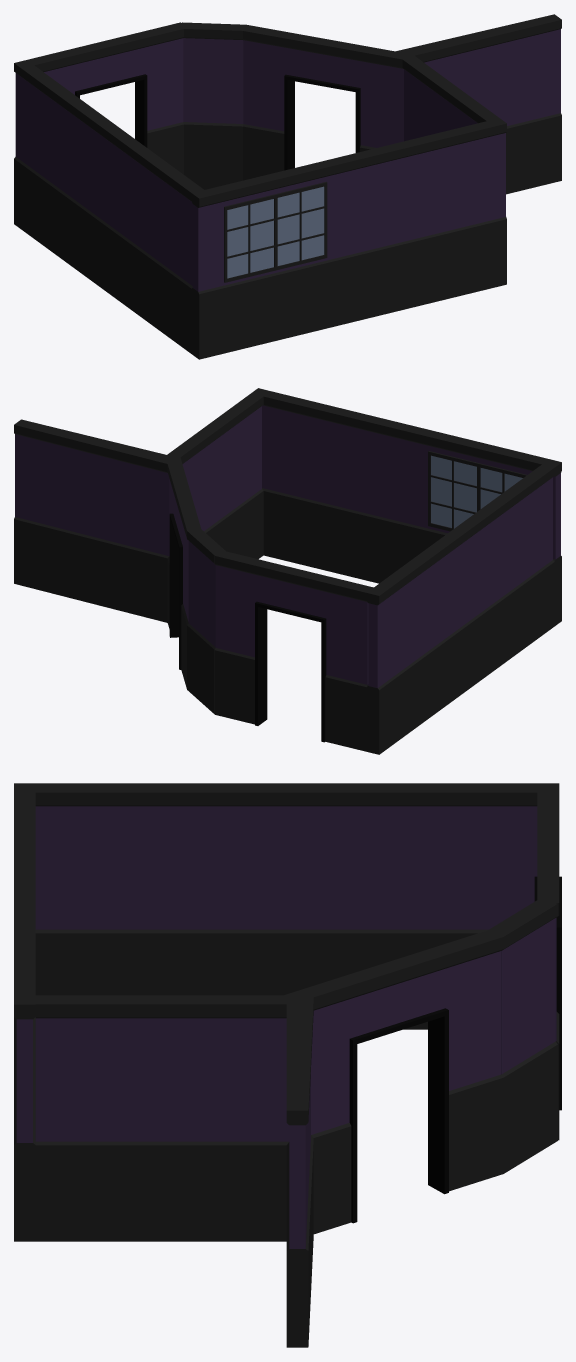
File: Garden.fbx
The picture shows the model from 3 angles, top to bottom: view 1: azimuth 30°, elevation 25°; view 2: azimuth 150°, elevation 25°; view 3: azimuth 270°, elevation 25°; orthographic projection. The views are drawn at different scales.
Visible parts, largest first — view 1: Classic_WallWindow_03_snaps001 (6), Classic_Wall_snaps001 (83), Classic_Wall_Corner_snaps001 (6), Classic_Wall_snaps001 (85), Classic_Wall_snaps001 (84), Classic_WallDoorFrame_02_snaps001 (16), Classic_WallDoorFrame_02_snaps001 (15), Classic_Wall_snaps001 (86); view 2: Classic_Wall_Corner_snaps001 (6), Classic_Wall_snaps001 (83), Classic_WallDoorFrame_02_snaps001 (15), Classic_Wall_snaps001 (85), Classic_Wall_snaps001 (84), Classic_WallWindow_03_snaps001 (6), Classic_Wall_snaps001 (86), Classic_WallDoorFrame_02_snaps001 (16); view 3: Classic_Wall_Corner_snaps001 (6), Classic_Wall_snaps001 (84), Classic_Wall_snaps001 (85), Classic_WallDoorFrame_02_snaps001 (16), Classic_Wall_snaps001 (86), Classic_Wall_snaps001 (83), Classic_WallDoorFrame_02_snaps001 (15), Classic_WallWindow_03_snaps001 (6).
Part boxes in pixels (bbox=[...]): Classic_WallWindow_03_snaps001 (6): bbox=[191, 155, 352, 359]; Classic_Wall_snaps001 (83): bbox=[346, 118, 506, 321]; Classic_Wall_Corner_snaps001 (6): bbox=[394, 14, 561, 194]; Classic_Wall_snaps001 (85): bbox=[14, 60, 115, 288]; Classic_Wall_snaps001 (84): bbox=[103, 125, 203, 353]; Classic_WallDoorFrame_02_snaps001 (16): bbox=[241, 24, 409, 180]; Classic_WallDoorFrame_02_snaps001 (15): bbox=[27, 22, 187, 174]; Classic_Wall_snaps001 (86): bbox=[181, 22, 245, 189]; Classic_Wall_Corner_snaps001 (6): bbox=[14, 393, 263, 622]; Classic_Wall_snaps001 (83): bbox=[251, 388, 409, 583]; Classic_WallDoorFrame_02_snaps001 (15): bbox=[214, 550, 373, 751]; Classic_Wall_snaps001 (85): bbox=[366, 528, 466, 754]; Classic_Wall_snaps001 (84): bbox=[455, 464, 554, 690]; Classic_WallWindow_03_snaps001 (6): bbox=[402, 425, 561, 625]; Classic_Wall_snaps001 (86): bbox=[187, 528, 225, 713]; Classic_WallDoorFrame_02_snaps001 (16): bbox=[166, 457, 200, 688]; Classic_Wall_Corner_snaps001 (6): bbox=[35, 995, 313, 1347]; Classic_Wall_snaps001 (84): bbox=[35, 783, 297, 995]; Classic_Wall_snaps001 (85): bbox=[297, 783, 559, 1029]; Classic_WallDoorFrame_02_snaps001 (16): bbox=[282, 930, 503, 1234]; Classic_Wall_snaps001 (86): bbox=[486, 900, 557, 1173]; Classic_Wall_snaps001 (83): bbox=[14, 894, 35, 1241]; Classic_WallDoorFrame_02_snaps001 (15): bbox=[534, 792, 561, 1140]; Classic_WallWindow_03_snaps001 (6): bbox=[14, 783, 35, 1034].
Bounding box in the file's own units: 8.87 × 3 × 6.28.
